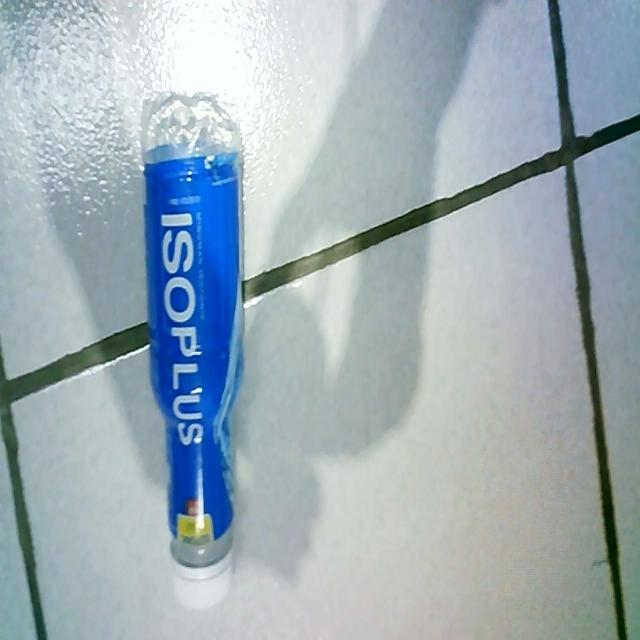botol: (135, 82, 247, 614)
